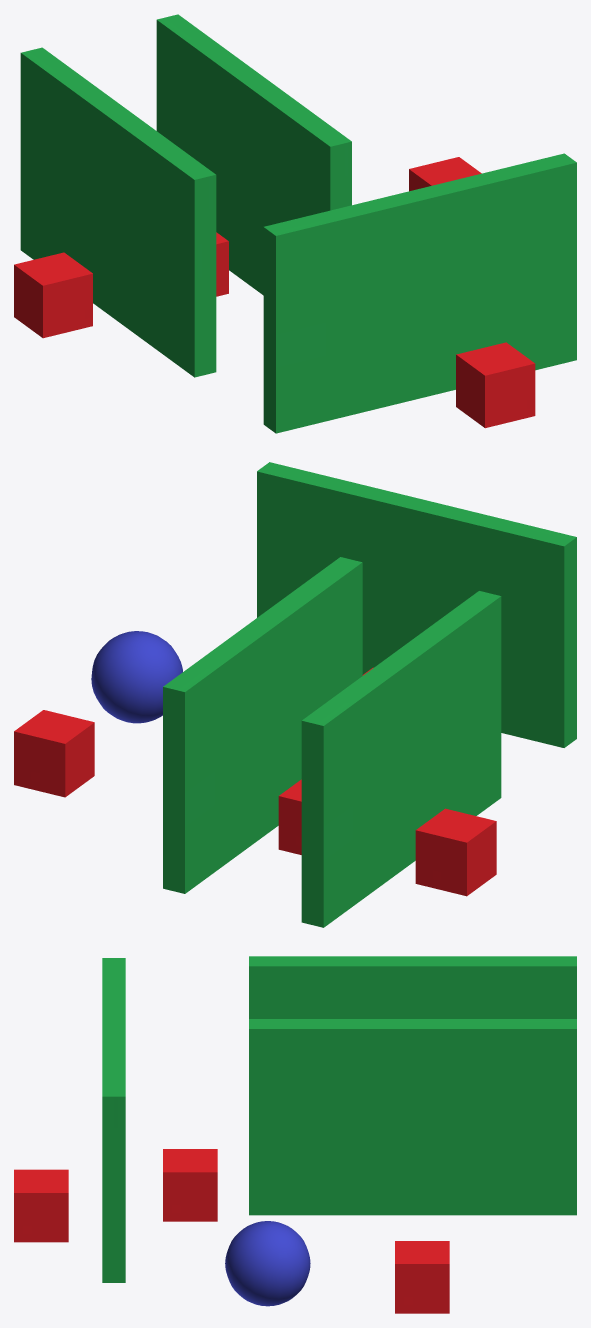
File: BSPTest2.dae
3 renders of one model, top to bottom at view 1: azimuth 30°, elevation 25°; view 2: azimuth 150°, elevation 25°; view 3: azimuth 270°, elevation 25°, orthographic. The views are drawn at different scales.
Visible parts, largest first — view 1: Plane3, Plane1, Plane2, Inmovil5, Inmovil1, Inmovil3, Inmovil2; view 2: Plane3, Plane1, Plane2, Move, Inmovil1, Inmovil3, Inmovil2; view 3: Plane2, Plane1, Plane3, Move, Inmovil5, Inmovil3, Inmovil4.
Part boxes in pixels (left/top/right/bottom): Plane3: left=263, top=153, right=576, bottom=433; Plane1: left=20, top=47, right=216, bottom=377; Plane2: left=156, top=14, right=351, bottom=295; Inmovil5: left=456, top=342, right=535, bottom=428; Inmovil1: left=14, top=252, right=92, bottom=338; Inmovil3: left=409, top=157, right=481, bottom=191; Inmovil2: left=216, top=232, right=228, bottom=296; Plane3: left=257, top=462, right=576, bottom=747; Plane1: left=301, top=591, right=501, bottom=927; Plane2: left=163, top=557, right=362, bottom=893; Move: left=91, top=631, right=182, bottom=723; Inmovil1: left=415, top=808, right=496, bottom=896; Inmovil3: left=14, top=710, right=94, bottom=797; Inmovil2: left=278, top=779, right=301, bottom=854; Plane2: left=249, top=1019, right=576, bottom=1215; Plane1: left=249, top=956, right=576, bottom=1018; Plane3: left=102, top=958, right=125, bottom=1282; Move: left=225, top=1221, right=310, bottom=1306; Inmovil5: left=14, top=1169, right=68, bottom=1242; Inmovil3: left=395, top=1241, right=449, bottom=1313; Inmovil4: left=163, top=1149, right=217, bottom=1221.
Bounding box in the file's own units: 18.38 × 7.56 × 20.69.
